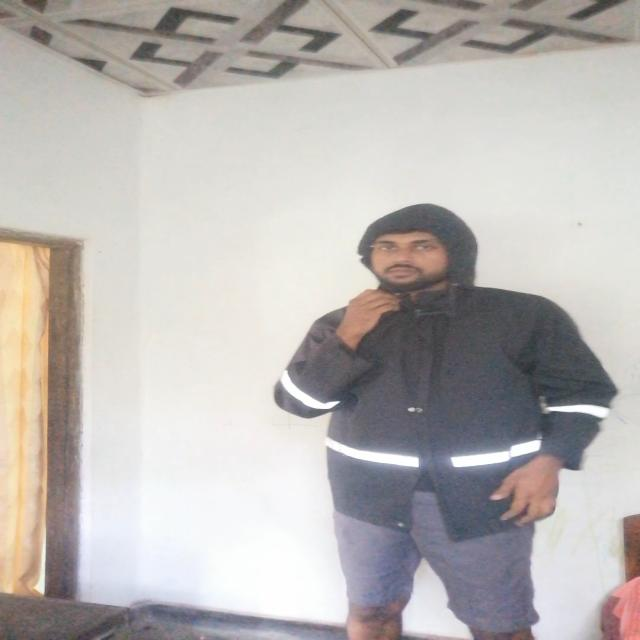Jacket_Wearer: (281, 209, 608, 532)
